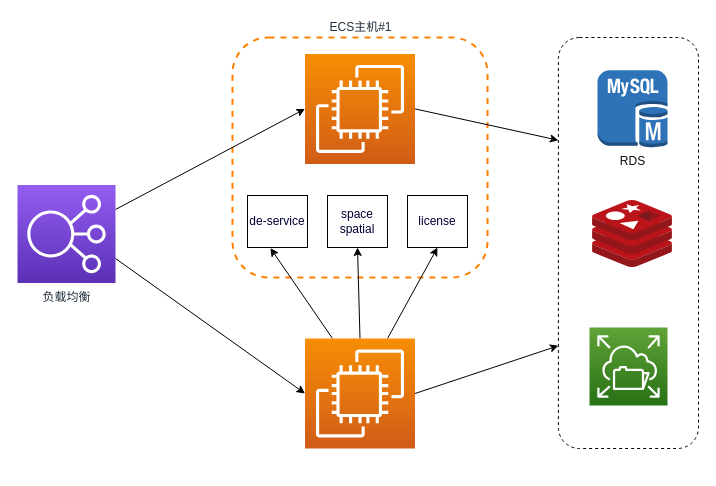
This 716x486 diagram has some shape labels left out. The centre of each missing label's shape, as x and y in pixels:
"ECS 主机#2" belongs at point (359, 393).
"OSS" belongs at point (628, 366).
"Redis" belongs at point (632, 233).
